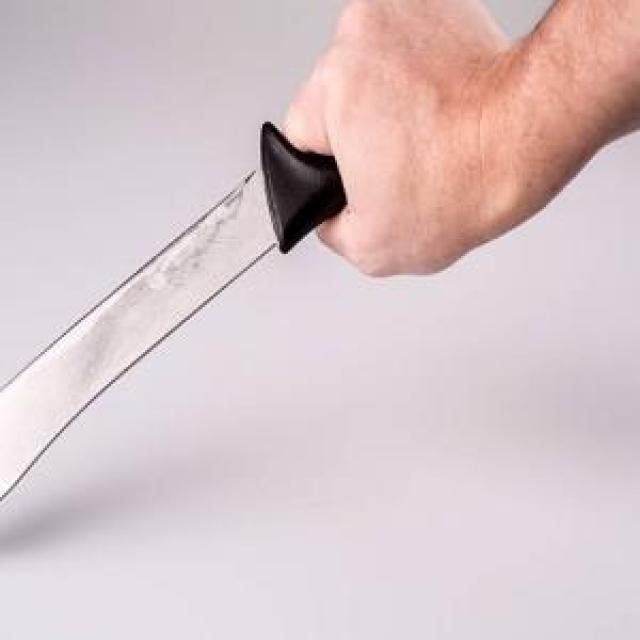knife: (0, 121, 352, 504)
